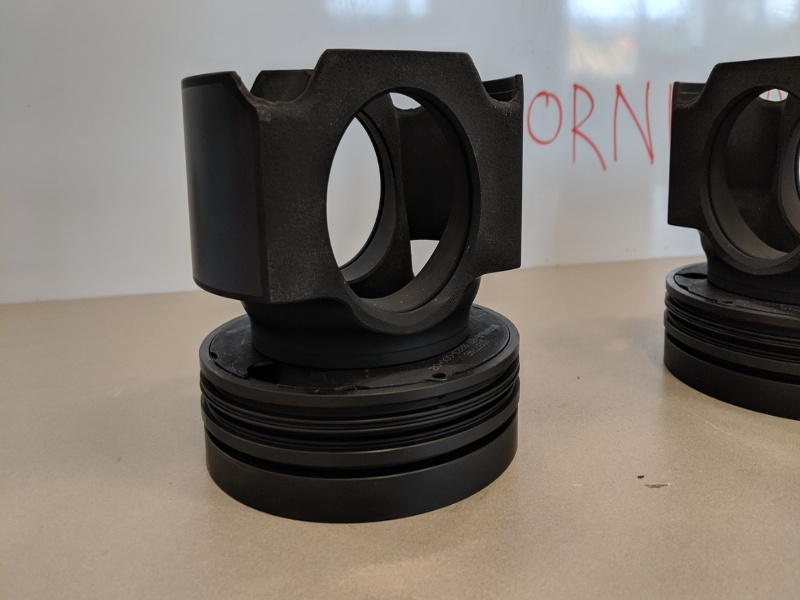piston: (169, 37, 533, 529), (658, 51, 800, 424)
